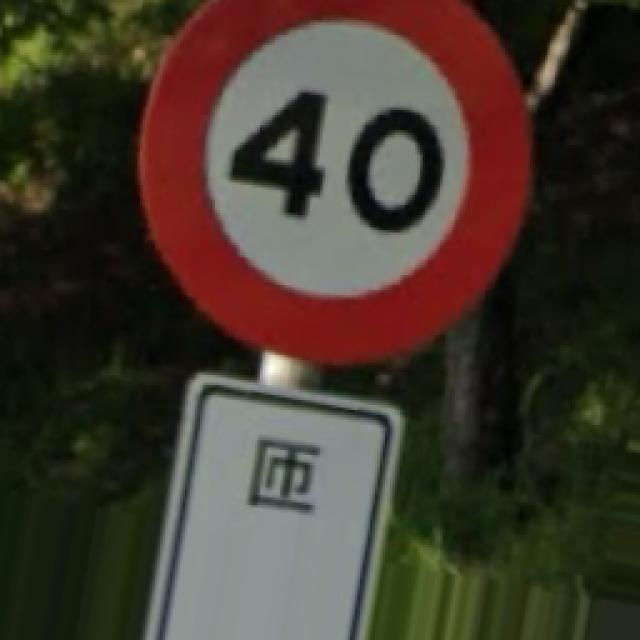Speed Limit -40-: (138, 0, 530, 360)
